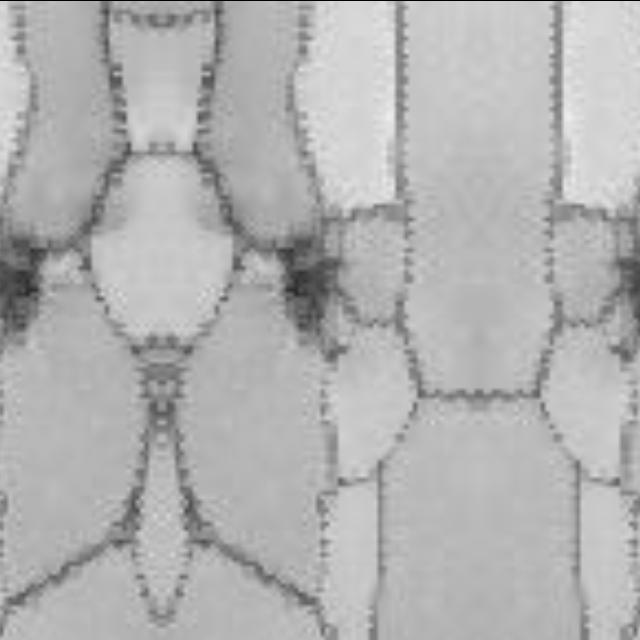good_void: (261, 214, 348, 372), (0, 215, 61, 367), (610, 214, 640, 372)
